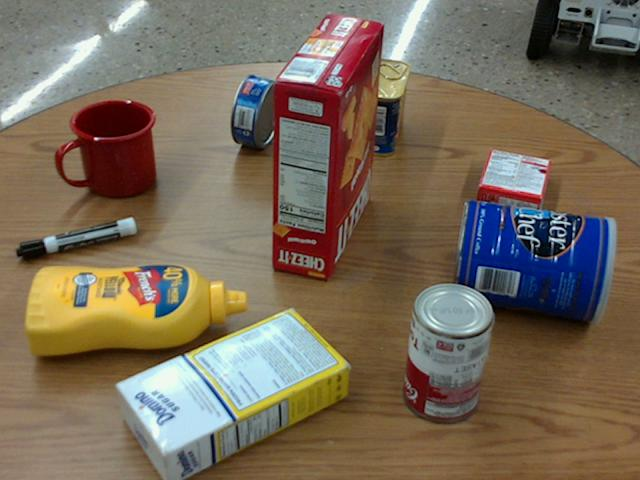cracker_box: (272, 12, 383, 277)
gelatin_box: (476, 147, 549, 215)
large_marker: (17, 216, 135, 259)
master_chef_can: (452, 196, 617, 321)
mug: (58, 100, 155, 198)
mustard_bottle: (26, 262, 246, 356)
potted_meat_can: (356, 58, 409, 155)
sugar_box: (112, 307, 347, 479)
tomato_soup_can: (405, 280, 494, 420)
tuna_fish_can: (229, 74, 282, 148)
